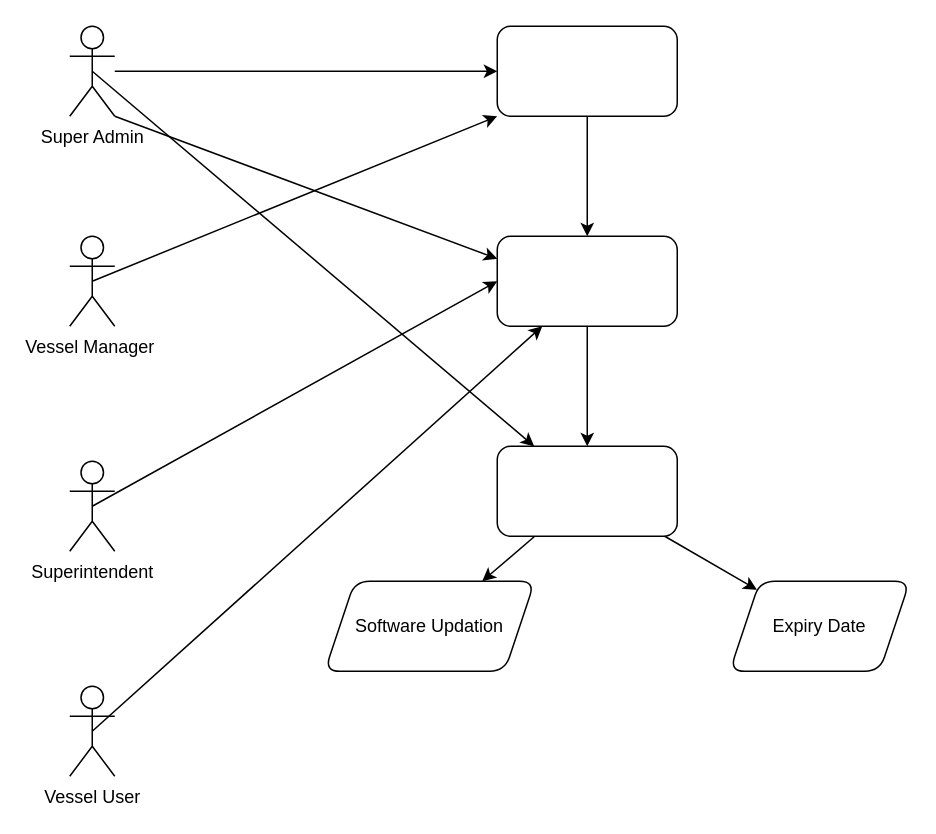
Some shapes in this 936 by 834 pixel diagram are drawn without their labels. Each missing label, with the centre of its shape:
"Company" goes at point 586,70.
"Equipments" goes at point 586,490.
"Vessels" goes at point 586,280.
